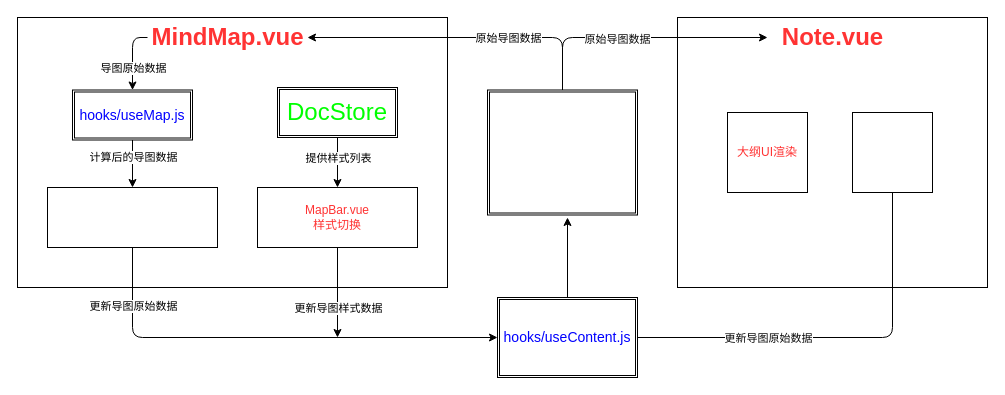
This 1005x395 diagram has some shape labels left out. The shapes that lost their labels are listed below. From the top down, each one's box as (x1, y1, x2, y2) in pixels, then its label:
(486, 89, 638, 215): MapStore
(852, 112, 932, 192): 按键事件处理
(46, 186, 218, 248): MapRender.vue 渲染与键盘事件处理
